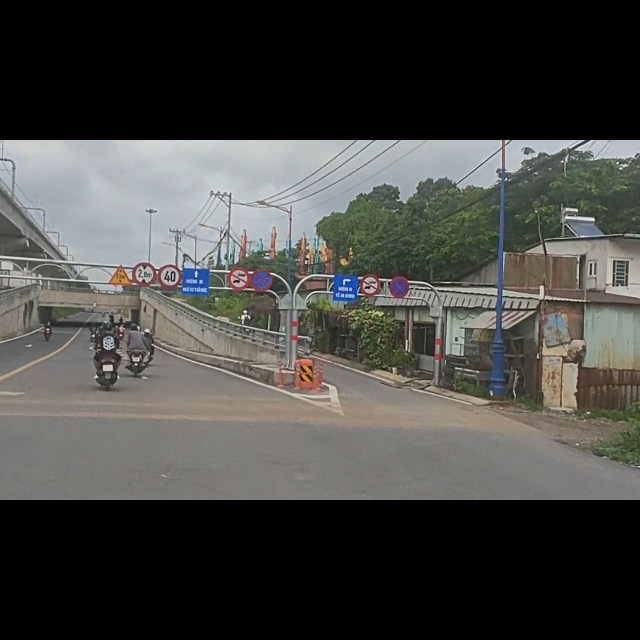bien_cam: (132, 217, 157, 262), (158, 220, 183, 265), (227, 226, 252, 269), (109, 222, 132, 261), (389, 242, 411, 282), (360, 238, 381, 279), (253, 229, 273, 271)
